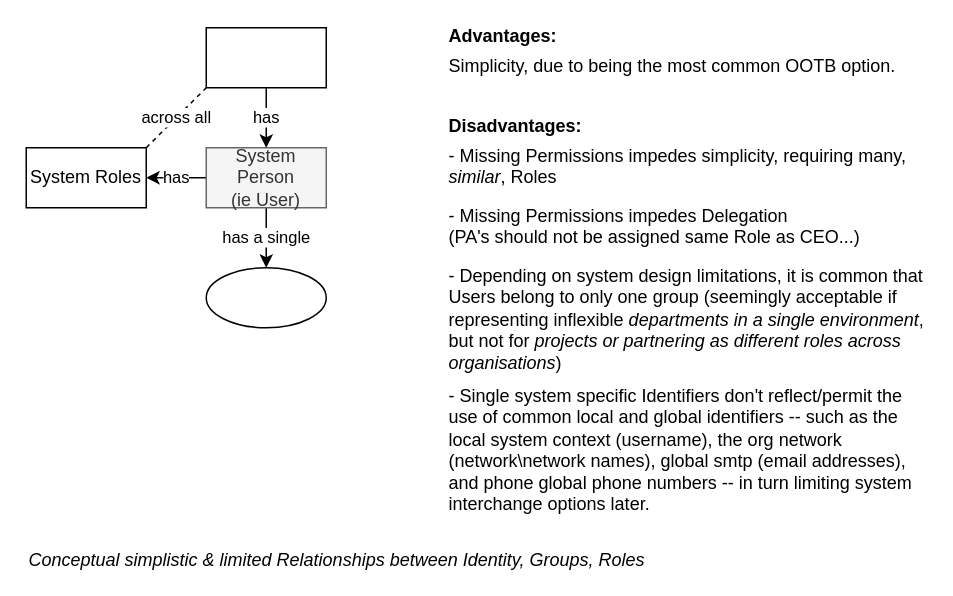
This 953x596 diagram has some shape labels left out. Here are the shapes that lost their labels. From the top down, the centre of each, then its label:
(265,57): System Groups
(265,297): System Identifier
